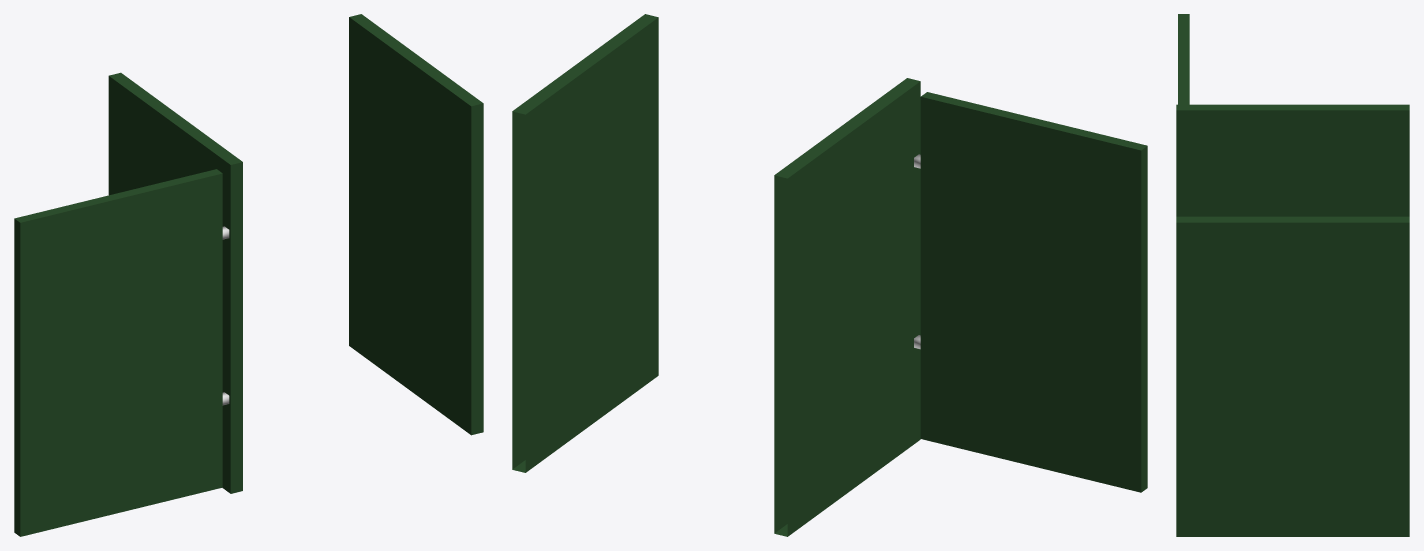
Rendered from toilet-borders.glb.
3 renders of one model, left to right at view 1: azimuth 30°, elevation 25°; view 2: azimuth 150°, elevation 25°; view 3: azimuth 270°, elevation 25°, orthographic. The views are drawn at different scales.
Parts seen in each view (by area): view 1: door, borders; view 2: borders, door; view 3: borders, door.
Boxes of the visible parts, x1,y1,x2,y2 form: door: (14, 169, 229, 536); borders: (108, 14, 483, 493); borders: (512, 14, 920, 536); door: (914, 92, 1147, 492); borders: (1176, 104, 1409, 536); door: (1178, 14, 1189, 104).
Bounding box in the file's own units: 2.94 × 2 × 1.35.
